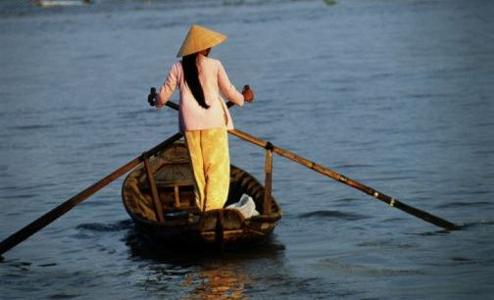person: (151, 26, 256, 213)
